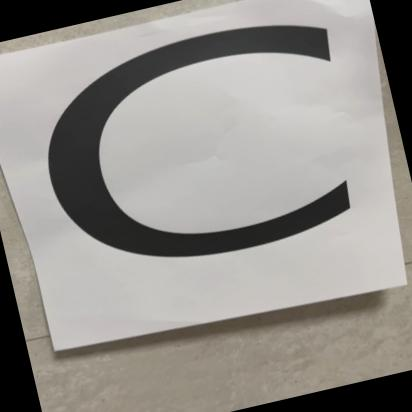seat: (0, 0, 410, 363)
